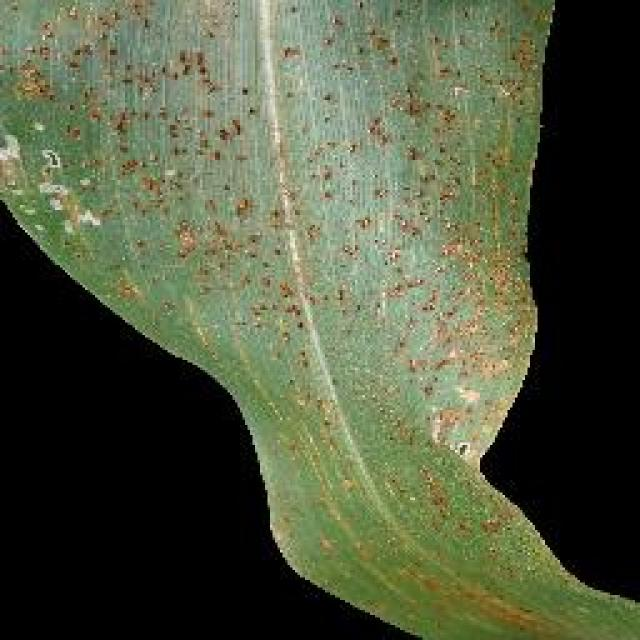Corn Common Rust: (129, 0, 598, 538)
